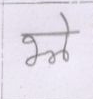o_matra: (59, 11, 73, 60)
